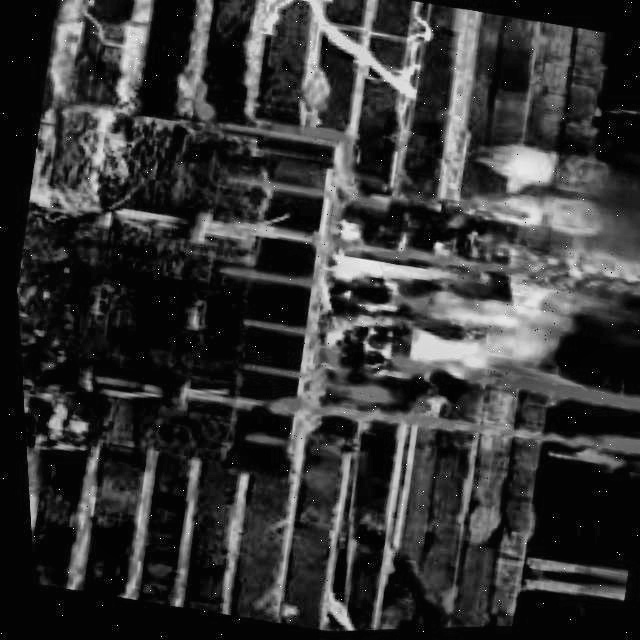Fire: (304, 236, 597, 403)
